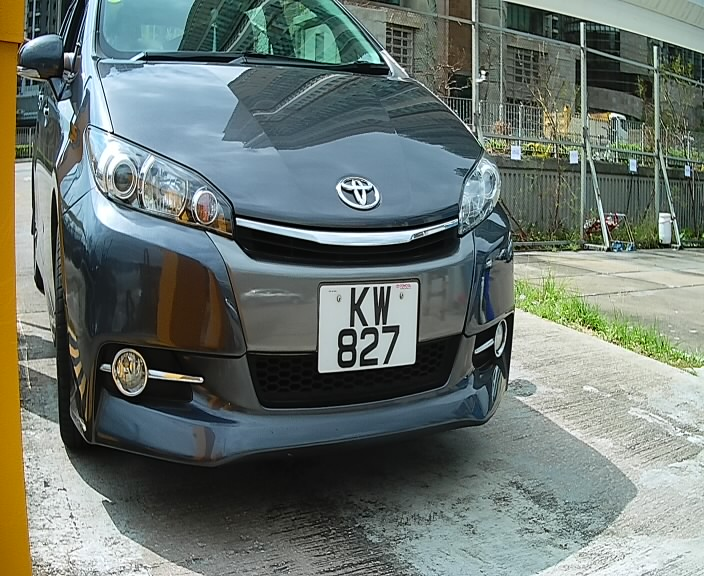Car: (30, 2, 530, 503)
License Plate: (310, 265, 427, 381)
